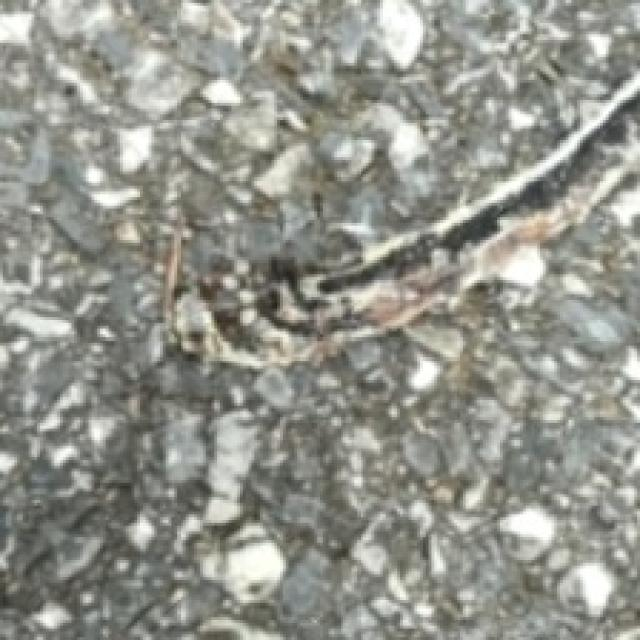king cobra: (0, 0, 637, 371)
